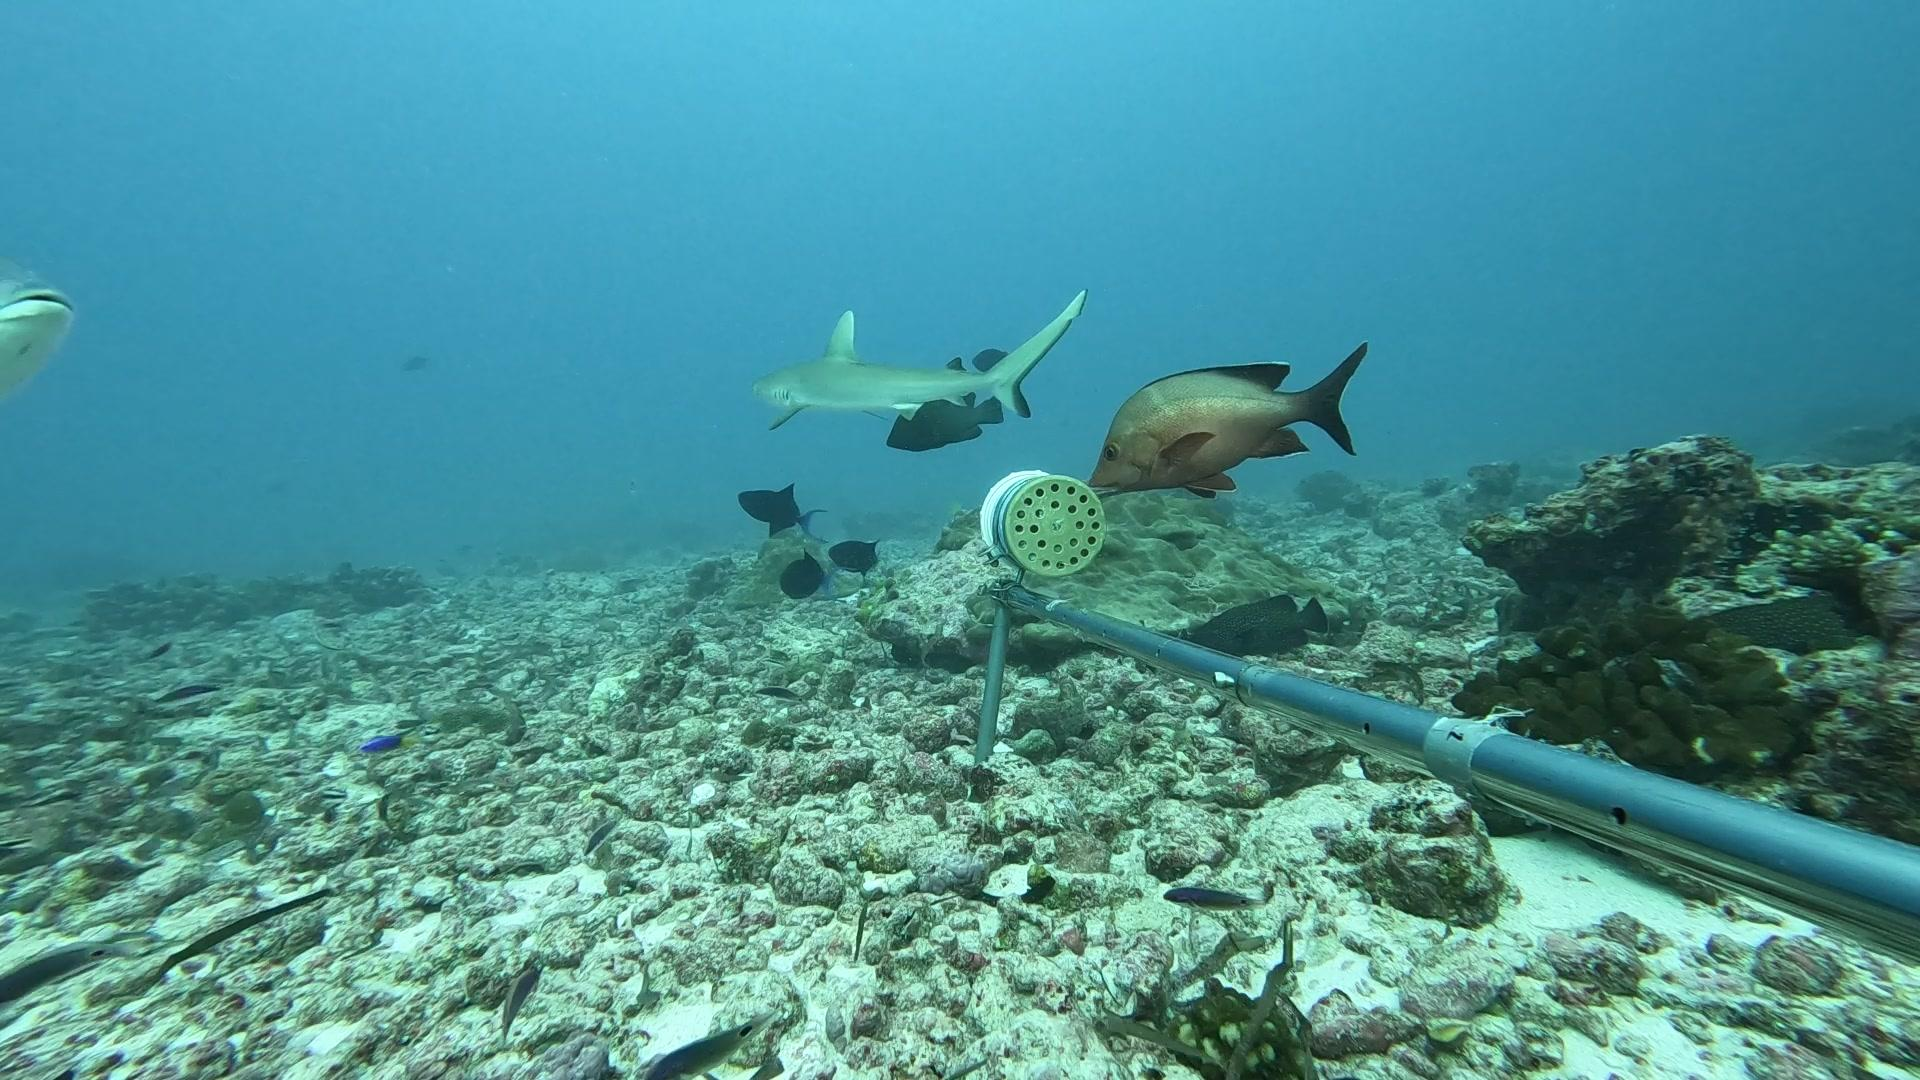fish: (1081, 316, 1383, 516), (711, 286, 1091, 436), (0, 222, 96, 483), (878, 371, 1015, 465), (624, 1010, 787, 1080), (1184, 585, 1331, 662), (0, 934, 144, 1007), (727, 468, 829, 549), (775, 549, 860, 603), (1159, 876, 1267, 916), (150, 673, 232, 723), (827, 538, 890, 575), (359, 733, 419, 754), (972, 342, 1006, 371)
